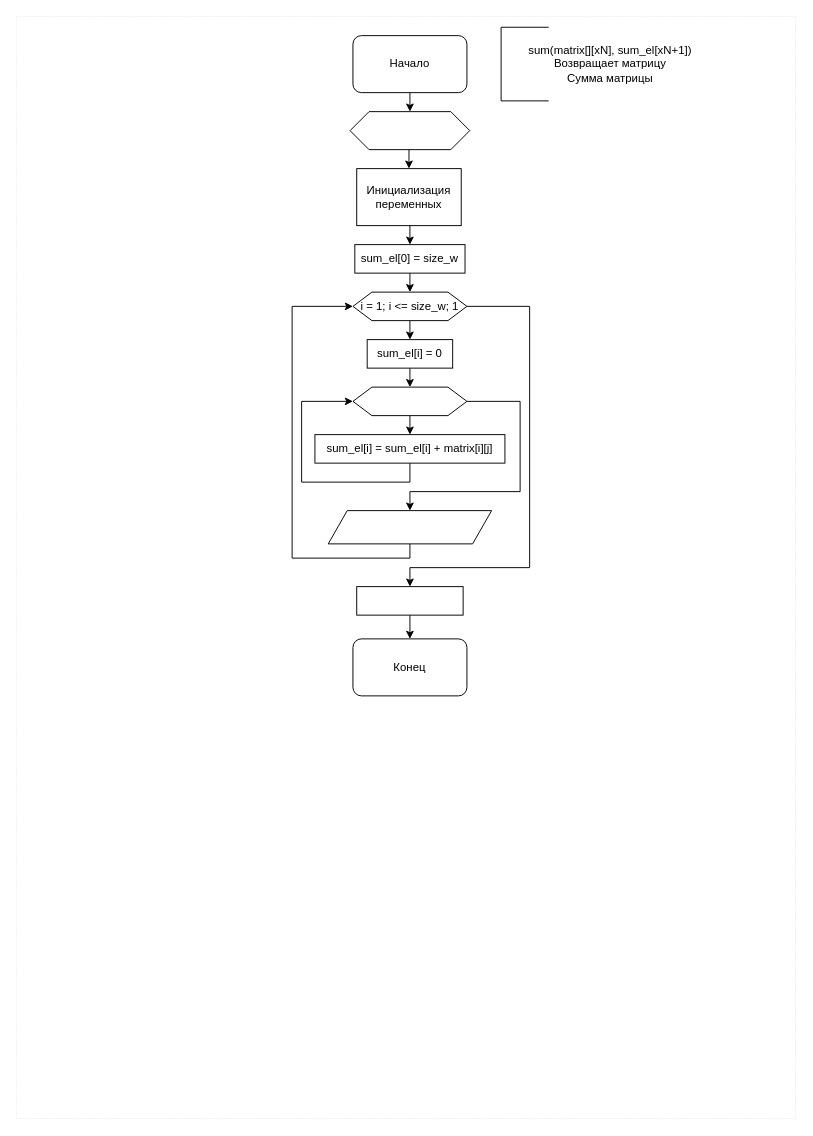
Image size: 813x1136. Some labels were removed from this diagram. Here are the shapes that lost their labels. From the top down, the centre of each, then its label:
the point at 409,130: int matrix[][xN] int sum_el[xN+1]
the point at 409,401: int j = 0; j < size_h; 1
the point at 409,527: Сумма элементов i-ой строки: sum_el[i-1]
the point at 409,600: Вернуть sum_el
